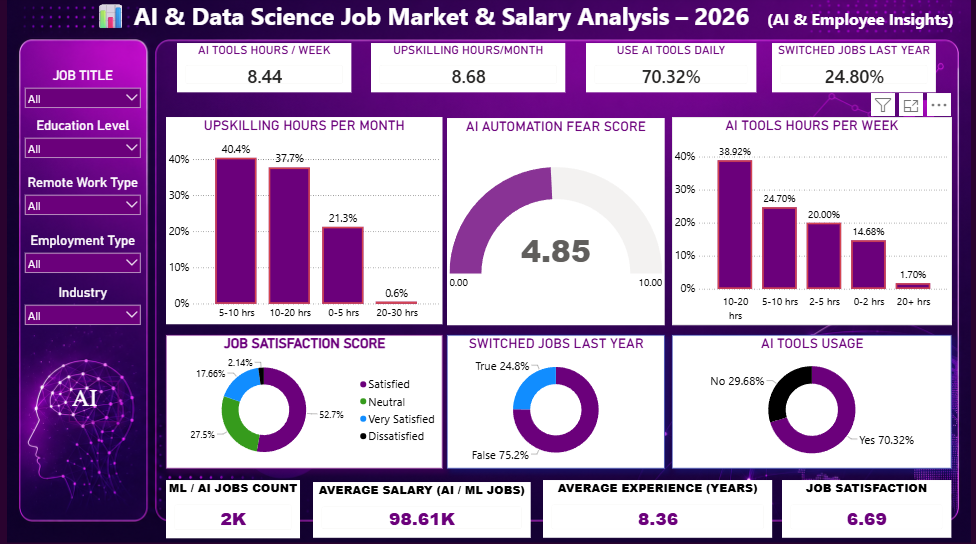

What the dashboard file says about the page in this screenshot:
{"tool":"powerbi","page":{"name":"AI & Employee Insights","canvas":[1963,1104],"ordinal":1},"visuals":[{"type":"cardVisual","title":"USE AI TOOLS DAILY ","fields":{"Data":["AI_Jobs_2026.AI Usage %"]},"box":[1175.7,92.9,341.9,99.2],"z":0},{"type":"cardVisual","title":"AI TOOLS HOURS / WEEK","fields":{"Data":["AI_Jobs_2026.Average AI Hours/Week"]},"box":[354.6,92.9,350.4,99.2],"z":1000},{"type":"cardVisual","title":" UPSKILLING HOURS/MONTH","fields":{"Data":["AI_Jobs_2026.Upskilling Hours/Month"]},"box":[745.1,92.9,390.5,99.2],"z":2000},{"type":"cardVisual","title":"SWITCHED JOBS LAST YEAR","fields":{"Data":["AI_Jobs_2026.Job Switch %"]},"box":[1549.3,92.9,329.3,99.2],"z":3000},{"type":"clusteredColumnChart","title":"AI TOOLS HOURS PER WEEK","fields":{"Category":["AI_Jobs_2026.AI Hours Category"],"Y":["Sum(AI_Jobs_2026.AI Hours Sort)"]},"box":[1348.8,240.6,561.5,417.9],"z":4000},{"type":"gauge","title":"AI AUTOMATION FEAR SCORE","fields":{"Y":["AI_Jobs_2026.AI Automation Fear"]},"box":[897.1,242.7,436.9,415.8],"z":5000},{"type":"donutChart","title":"JOB SATISFACTION SCORE","fields":{"Category":["AI_Jobs_2026.Satisfaction Category"],"Y":["AI_Jobs_2026.Total Jobs"]},"box":[333.5,677.6,555.1,268.1],"z":6000},{"type":"clusteredColumnChart","title":"UPSKILLING HOURS PER MONTH","fields":{"Category":["AI_Jobs_2026.Upskilling Hours Category"],"Y":["AI_Jobs_2026.Upskilling Hours %"]},"box":[333.5,240.6,555.1,415.8],"z":7000},{"type":"donutChart","title":"SWITCHED JOBS LAST YEAR","fields":{"Category":["AI_Jobs_2026.switched_jobs_last_year"],"Y":["CountNonNull(AI_Jobs_2026.switched_jobs_last_year)"]},"box":[897.1,677.6,436.9,268.1],"z":8000},{"type":"cardVisual","title":"ML / AI JOBS COUNT","fields":{"Data":["AI_Jobs_2026.ML / AI Jobs Count"]},"box":[333.4,969.3,269.4,117],"z":9000},{"type":"cardVisual","title":"AVERAGE SALARY (AI / ML JOBS)","fields":{"Data":["AI_Jobs_2026.Average Salary"]},"box":[629,973.1,436.9,111.9],"z":10000},{"type":"cardVisual","title":"AVERAGE EXPERIENCE (YEARS)","fields":{"Data":["AI_Jobs_2026.Average Experience"]},"box":[1089.1,968.8,460.1,116.1],"z":11000},{"type":"cardVisual","title":"JOB SATISFACTION","fields":{"Data":["AI_Jobs_2026.Average Job Satisfaction"]},"box":[1570.4,968.8,339.8,116.1],"z":12000},{"type":"donutChart","title":"AI TOOLS USAGE","fields":{"Category":["AI_Jobs_2026.AI Usage Category"],"Y":["AI_Jobs_2026.Total Jobs"]},"box":[1348.8,677.6,561.5,268.1],"z":13000},{"type":"slicer","title":"JOB TITLE","fields":{"Values":["AI_Jobs_2026.job_title"]},"box":[39.7,143.5,251.7,97.2],"z":14000},{"type":"slicer","title":"Education Level","fields":{"Values":["AI_Jobs_2026.education_level"]},"box":[39.7,242.9,251.7,99.4],"z":15000},{"type":"slicer","title":"Remote Work Type","fields":{"Values":["AI_Jobs_2026.Remote Work Type"]},"box":[39.7,357.7,251.7,92.7],"z":16000},{"type":"slicer","title":"Employment Type","fields":{"Values":["AI_Jobs_2026.employment_type"]},"box":[39.7,474.7,251.7,103.8],"z":17000},{"type":"slicer","title":"Industry","fields":{"Values":["AI_Jobs_2026.industry"]},"box":[39.7,578.5,251.7,99.4],"z":18000},{"type":"textbox","box":[139.1,770.6,99.4,81.7],"z":19000},{"type":"textbox","box":[0,0,1962.9,92.7],"z":20000}]}

Visuals, with their boxes in screenshot pixels (x1, y1, x2, y2), scaled from the page's 1963x1104 canvas onto the 976x544 screenshot:
"USE AI TOOLS DAILY " cardVisual: [left=585, top=46, right=755, bottom=95]
"AI TOOLS HOURS / WEEK" cardVisual: [left=176, top=46, right=351, bottom=95]
" UPSKILLING HOURS/MONTH" cardVisual: [left=370, top=46, right=565, bottom=95]
"SWITCHED JOBS LAST YEAR" cardVisual: [left=770, top=46, right=934, bottom=95]
"AI TOOLS HOURS PER WEEK" clusteredColumnChart: [left=671, top=119, right=950, bottom=324]
"AI AUTOMATION FEAR SCORE" gauge: [left=446, top=120, right=663, bottom=324]
"JOB SATISFACTION SCORE" donutChart: [left=166, top=334, right=442, bottom=466]
"UPSKILLING HOURS PER MONTH" clusteredColumnChart: [left=166, top=119, right=442, bottom=323]
"SWITCHED JOBS LAST YEAR" donutChart: [left=446, top=334, right=663, bottom=466]
"ML / AI JOBS COUNT" cardVisual: [left=166, top=478, right=300, bottom=535]
"AVERAGE SALARY (AI / ML JOBS)" cardVisual: [left=313, top=479, right=530, bottom=535]
"AVERAGE EXPERIENCE (YEARS)" cardVisual: [left=541, top=477, right=770, bottom=535]
"JOB SATISFACTION" cardVisual: [left=781, top=477, right=950, bottom=535]
"AI TOOLS USAGE" donutChart: [left=671, top=334, right=950, bottom=466]
"JOB TITLE" slicer: [left=20, top=71, right=145, bottom=119]
"Education Level" slicer: [left=20, top=120, right=145, bottom=169]
"Remote Work Type" slicer: [left=20, top=176, right=145, bottom=222]
"Employment Type" slicer: [left=20, top=234, right=145, bottom=285]
"Industry" slicer: [left=20, top=285, right=145, bottom=334]
textbox: [left=69, top=380, right=119, bottom=420]
textbox: [left=0, top=0, right=975, bottom=46]
